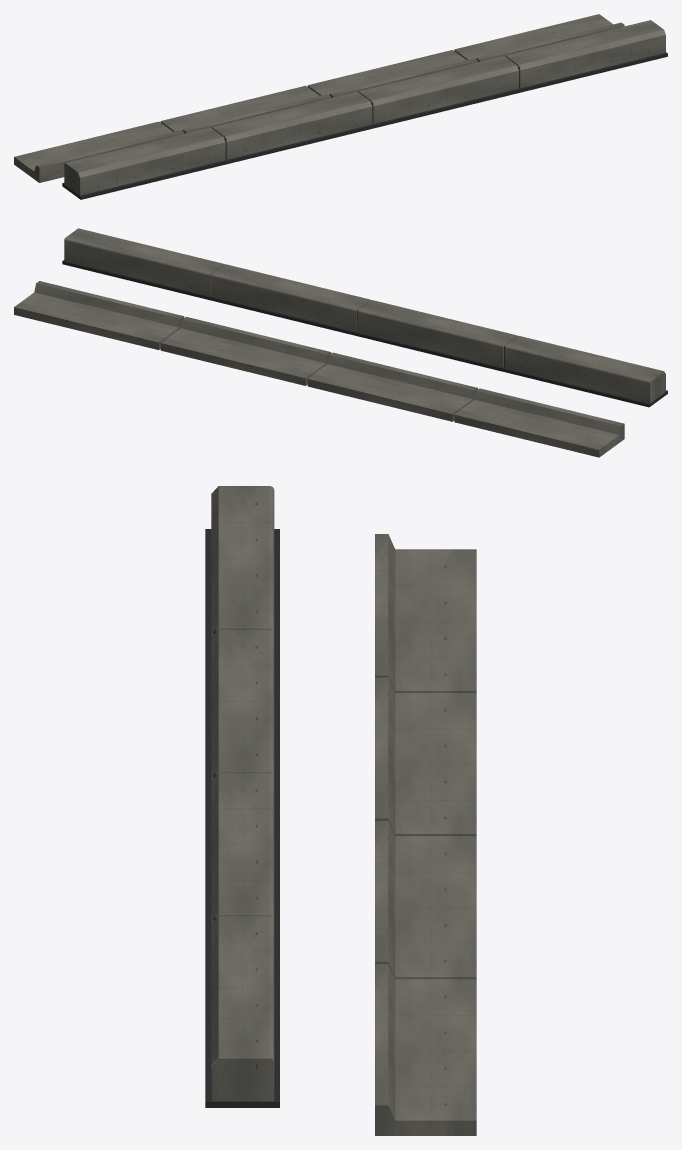
The picture shows the model from 3 angles, top to bottom: view 1: azimuth 30°, elevation 25°; view 2: azimuth 150°, elevation 25°; view 3: azimuth 270°, elevation 25°; orthographic projection. The views are drawn at different scales.
Visible parts, largest first — view 1: opt_type_a, opt_gutter_on, opt_type_b, opt_type_c; view 2: opt_gutter_on, opt_type_a, opt_type_b, opt_type_c; view 3: opt_gutter_on, opt_type_a, opt_type_b.
Part boxes in pixels (box(x1,y1,x2,y2)): opt_type_a: box(62, 20, 667, 199); opt_gutter_on: box(14, 14, 624, 182); opt_type_b: box(64, 22, 665, 194); opt_type_c: box(64, 49, 665, 194); opt_gutter_on: box(14, 281, 624, 457); opt_type_a: box(62, 228, 667, 407); opt_type_b: box(64, 229, 665, 402); opt_type_c: box(64, 256, 665, 402); opt_gutter_on: box(375, 534, 476, 1135); opt_type_a: box(205, 486, 279, 1107); opt_type_b: box(211, 486, 274, 1101).
Size of the model in its own units: 4 by 0.256 by 0.8001.
Materials: 2 (1 with a texture image).
